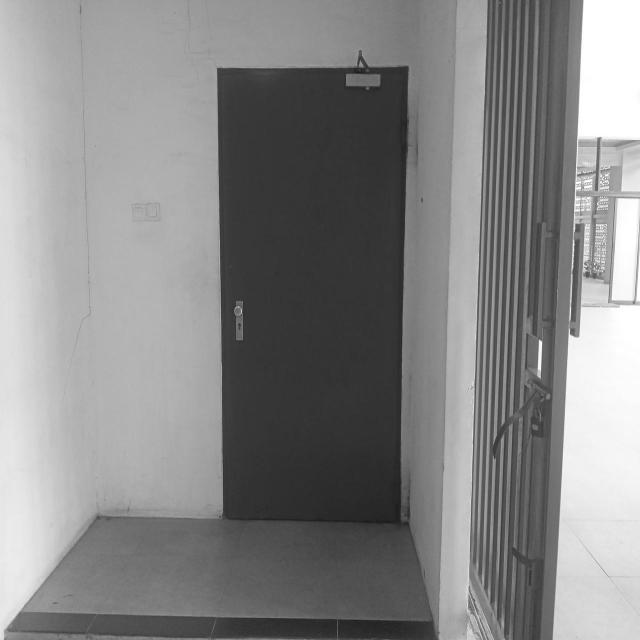door: (218, 67, 408, 524)
